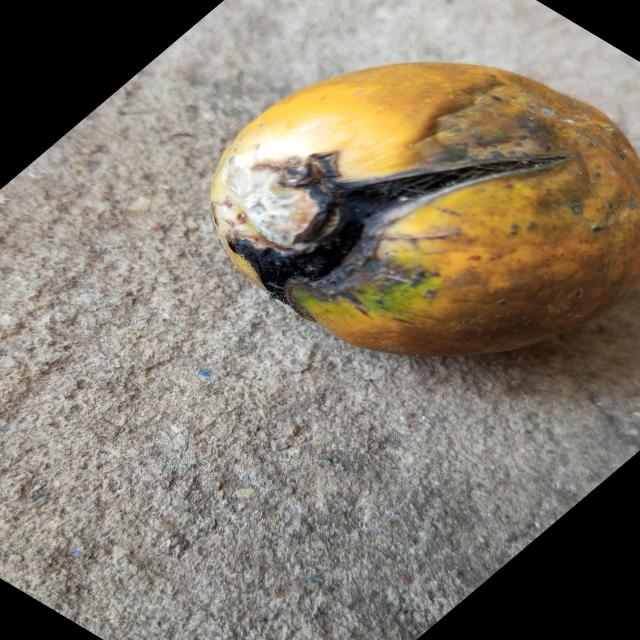damaged: (211, 63, 640, 356)
